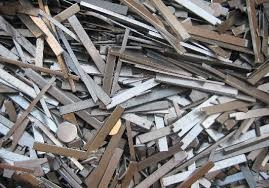metal: (12, 63, 106, 136), (168, 87, 227, 154), (7, 3, 67, 60), (80, 100, 126, 172), (96, 24, 131, 113), (150, 67, 239, 100), (184, 21, 254, 56), (31, 135, 93, 167), (52, 119, 82, 147)
